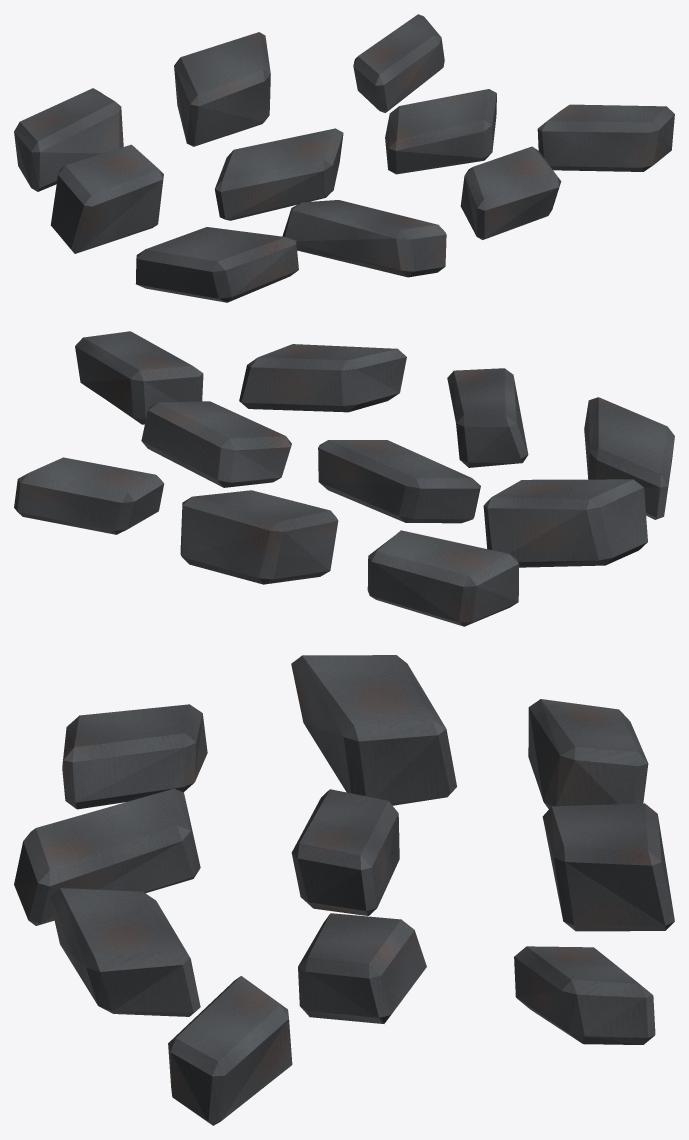
The model's file is ShotgunScrapBuckshot.fbx.
3 views of the same model, one above another, from view 1: azimuth 30°, elevation 25°; view 2: azimuth 150°, elevation 25°; view 3: azimuth 270°, elevation 25° (orthographic). The views are drawn at different scales.
Parts seen in each view (by area): view 1: ShotgunScrapBuckshot; view 2: ShotgunScrapBuckshot; view 3: ShotgunScrapBuckshot.
Boxes of the visible parts, x1,y1,x2,y2 form: ShotgunScrapBuckshot: [14, 14, 674, 302]; ShotgunScrapBuckshot: [14, 331, 674, 626]; ShotgunScrapBuckshot: [14, 655, 674, 1125].
Size of the model in its own units: 2.88 by 0.3614 by 2.05.
1 material, 1 textured.
